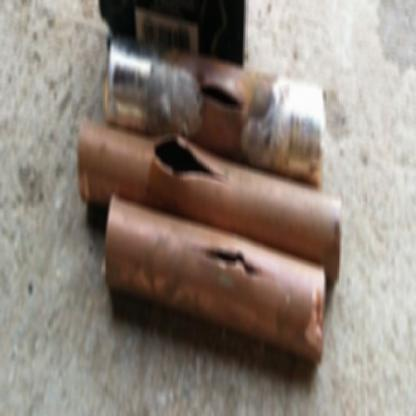burst: (155, 131, 231, 204), (196, 237, 270, 287), (197, 80, 248, 122)
